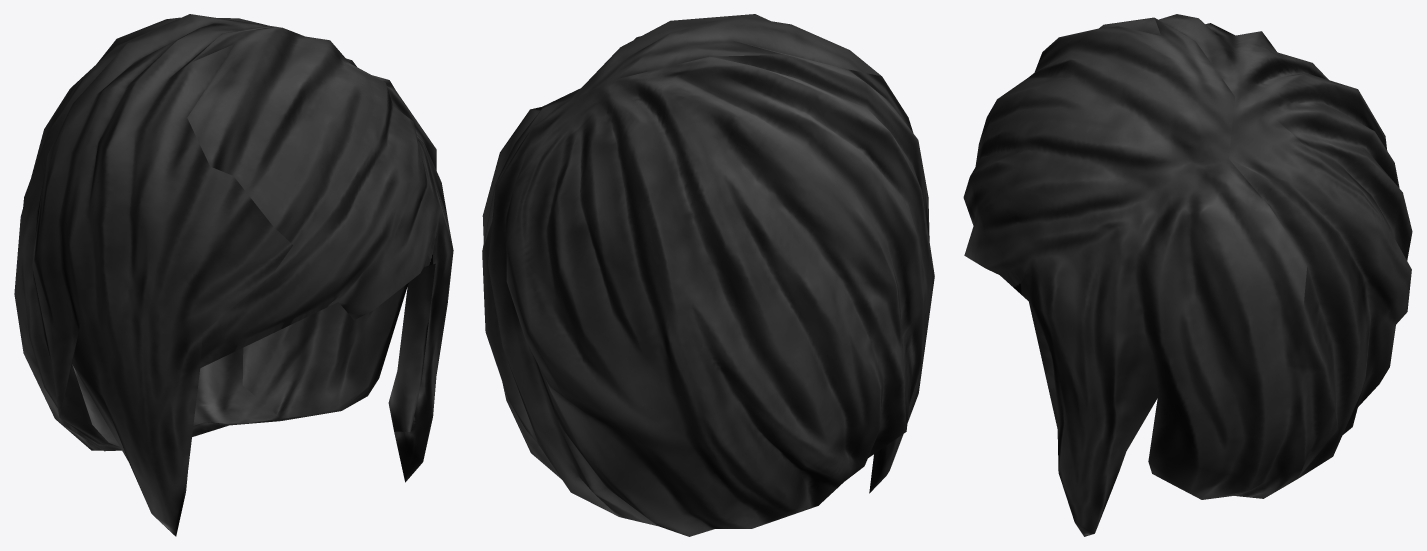
Rendered from AF_M_hair_G_06.fbx.
3 renders of one model, left to right at view 1: azimuth 30°, elevation 25°; view 2: azimuth 150°, elevation 25°; view 3: azimuth 270°, elevation 25°, orthographic. The views are drawn at different scales.
Visible parts, largest first — view 1: AF_M_hair_G_06; view 2: AF_M_hair_G_06; view 3: AF_M_hair_G_06.
Boxes of the visible parts, <box> form: AF_M_hair_G_06: <box>14,14,453,536</box>; AF_M_hair_G_06: <box>482,14,934,536</box>; AF_M_hair_G_06: <box>963,14,1412,536</box>.
Size of the model in its own units: 742 by 840 by 767.
